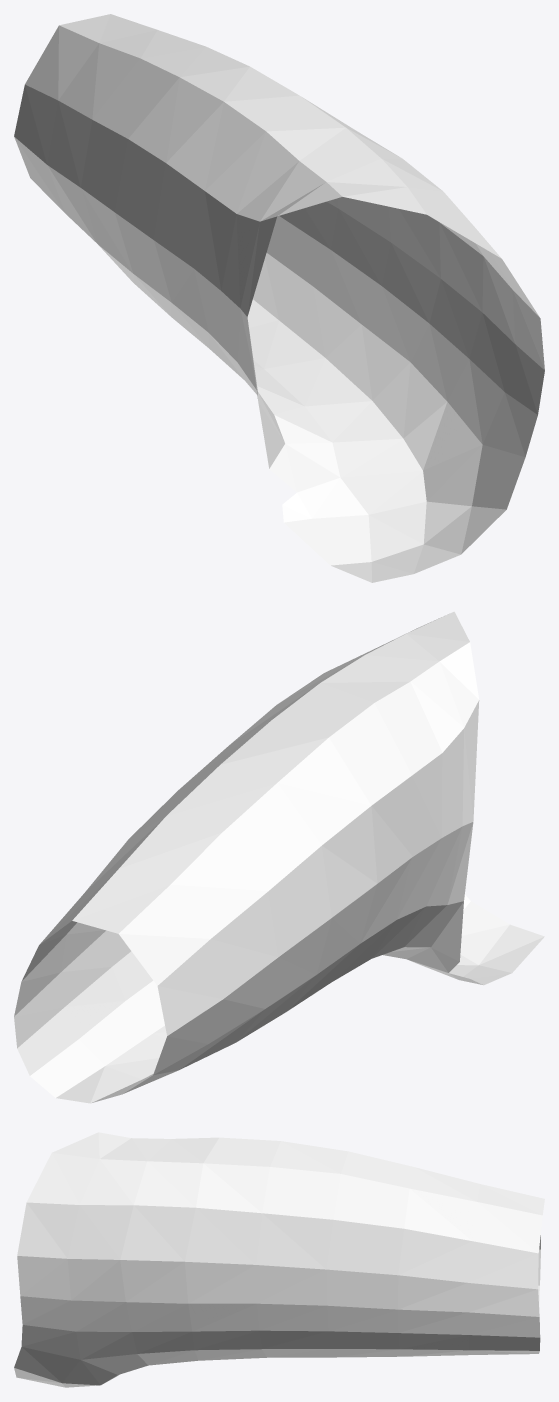
Rendered from r_upperleg.dae.
3 renders of one model, top to bottom at view 1: azimuth 30°, elevation 25°; view 2: azimuth 150°, elevation 25°; view 3: azimuth 270°, elevation 25°, orthographic. The views are drawn at different scales.
Visible parts, largest first — view 1: node; view 2: node; view 3: node.
Part boxes in pixels (x1,y1,x2,y2): node: (14,14,544,582); node: (14,611,544,1103); node: (14,1132,544,1387).
Size of the model in its own units: 0.1453 by 0.2303 by 0.4565.
1 material, 1 textured.
